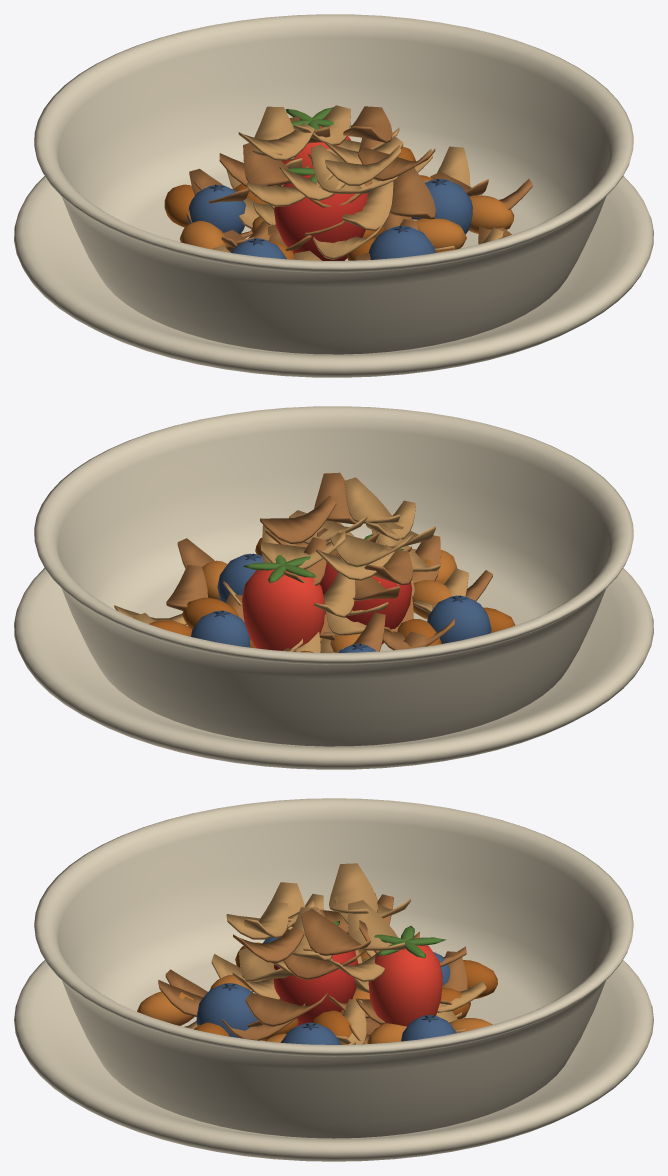
File: yard-food-source-r2.glb
The picture shows the model from 3 angles, top to bottom: view 1: azimuth 30°, elevation 25°; view 2: azimuth 150°, elevation 25°; view 3: azimuth 270°, elevation 25°; orthographic projection.
Parts seen in each view (by area): view 1: CeramicBowlMesh, CeramicBerryPlateMesh, CurledBonitoFlakes, StrawberriesAndBlueberries, RoundedKibblePieces, StrawberryLeaves; view 2: CeramicBowlMesh, CeramicBerryPlateMesh, CurledBonitoFlakes, StrawberriesAndBlueberries, RoundedKibblePieces, StrawberryLeaves; view 3: CeramicBowlMesh, CeramicBerryPlateMesh, CurledBonitoFlakes, StrawberriesAndBlueberries, RoundedKibblePieces, StrawberryLeaves.
Boxes of the visible parts, left/top/right/bottom form: CeramicBowlMesh: left=34, top=14, right=633, bottom=354; CeramicBerryPlateMesh: left=14, top=176, right=653, bottom=377; CurledBonitoFlakes: left=186, top=105, right=532, bottom=260; StrawberriesAndBlueberries: left=187, top=126, right=472, bottom=260; RoundedKibblePieces: left=164, top=146, right=514, bottom=260; StrawberryLeaves: left=285, top=107, right=351, bottom=182; CeramicBowlMesh: left=34, top=406, right=633, bottom=746; CeramicBerryPlateMesh: left=14, top=568, right=653, bottom=769; CurledBonitoFlakes: left=114, top=472, right=492, bottom=652; StrawberriesAndBlueberries: left=191, top=553, right=491, bottom=652; RoundedKibblePieces: left=148, top=538, right=515, bottom=652; StrawberryLeaves: left=242, top=534, right=404, bottom=582; CeramicBowlMesh: left=34, top=798, right=633, bottom=1138; CeramicBerryPlateMesh: left=14, top=960, right=653, bottom=1161; CurledBonitoFlakes: left=158, top=863, right=486, bottom=1044; StrawberriesAndBlueberries: left=196, top=937, right=456, bottom=1044; RoundedKibblePieces: left=137, top=942, right=497, bottom=1044; StrawberryLeaves: left=333, top=921, right=446, bottom=958.
Bounding box in the file's own units: 0.6404 × 0.1741 × 0.6404.
